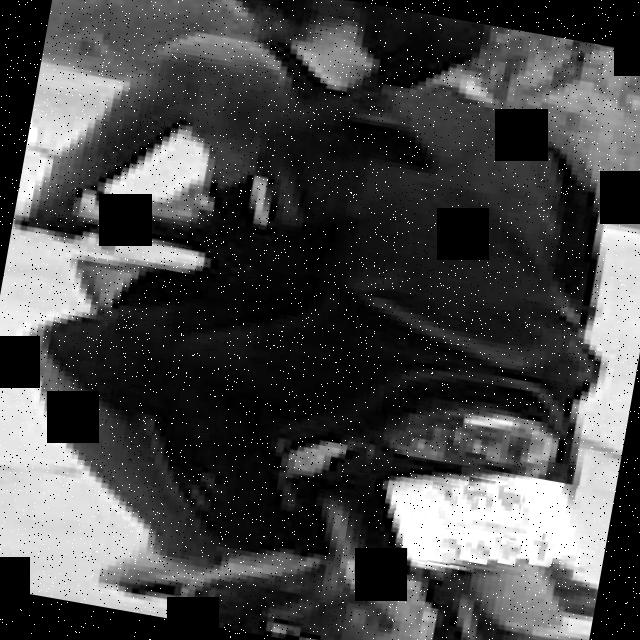letters: (464, 476, 496, 515), (435, 526, 464, 560), (428, 481, 459, 509), (528, 538, 556, 568), (468, 532, 492, 565), (496, 536, 520, 566), (500, 484, 524, 512)
license-plate: (388, 478, 577, 561)
province: (438, 501, 546, 541)
